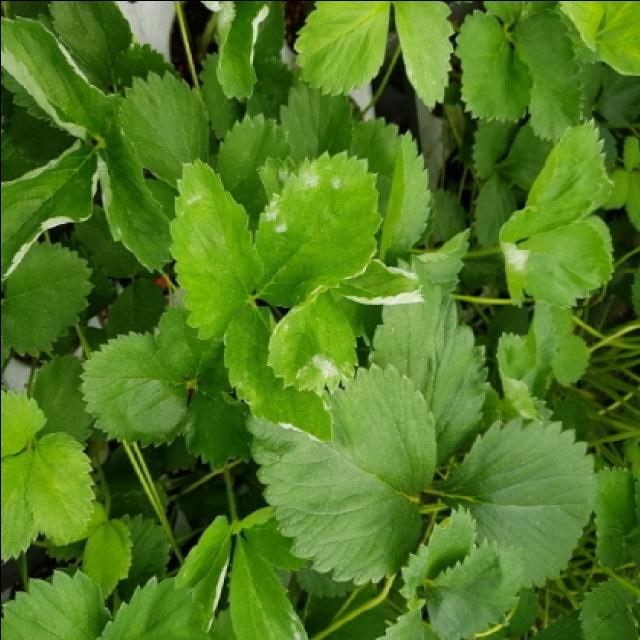Powdery Mildew Leaf: (253, 149, 382, 306), (167, 155, 262, 341), (221, 302, 333, 443), (499, 213, 617, 307), (264, 289, 361, 397), (225, 533, 309, 640), (202, 2, 272, 101), (333, 259, 426, 305)
